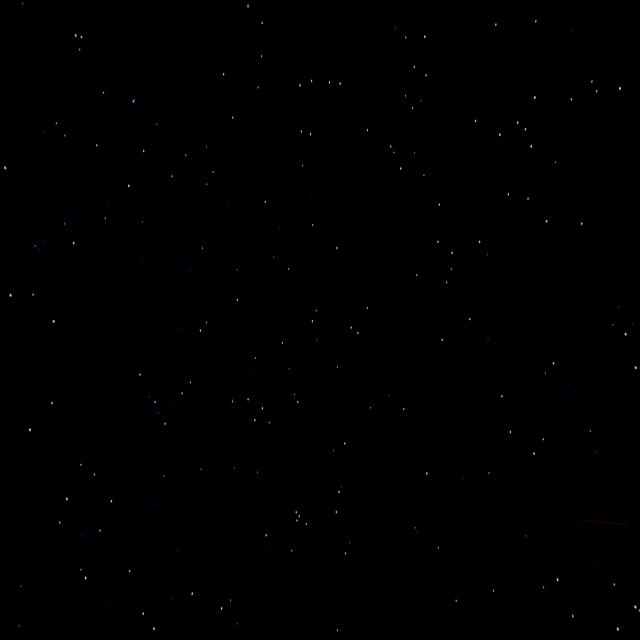medium_debris: (558, 474, 626, 597)
